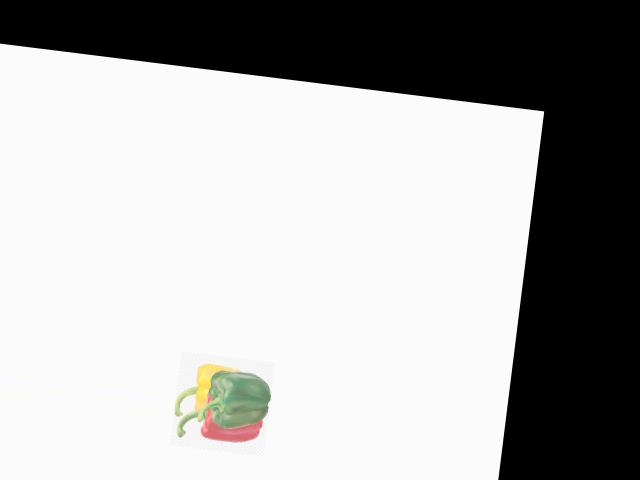bell_pepper: (172, 392, 267, 457)
